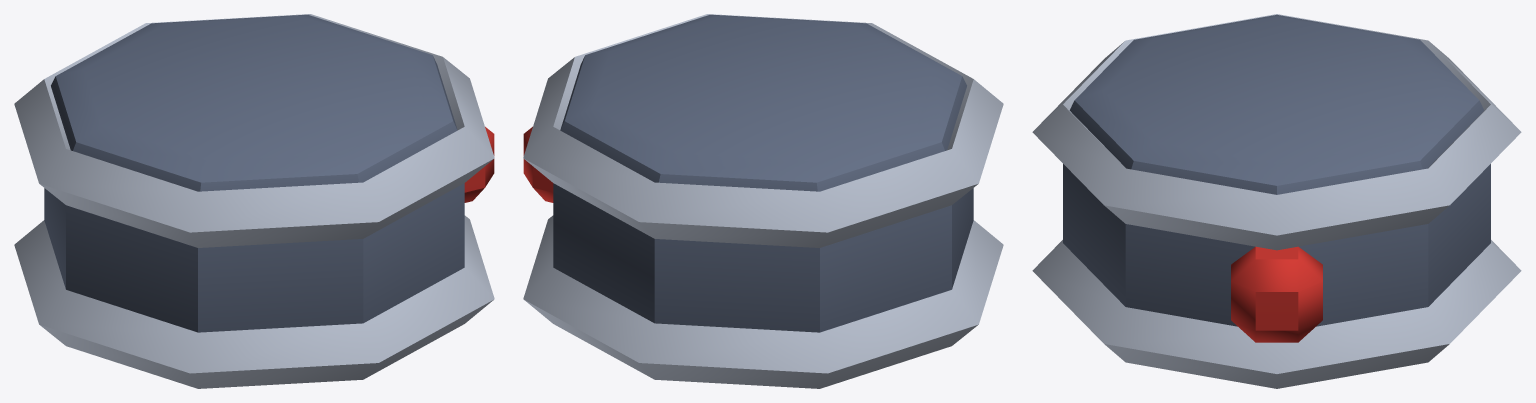
The model's file is mod_weight.glb.
3 renders of one model, left to right at view 1: azimuth 30°, elevation 25°; view 2: azimuth 150°, elevation 25°; view 3: azimuth 270°, elevation 25°, orthographic.
Parts seen in each view (by area): view 1: body; view 2: body; view 3: body.
Boxes of the visible parts, x1,y1,x2,y2 form: body: (14,14,494,388); body: (523,14,1003,388); body: (1032,14,1521,388).
Size of the model in its own units: 0.165 by 0.08 by 0.16.
